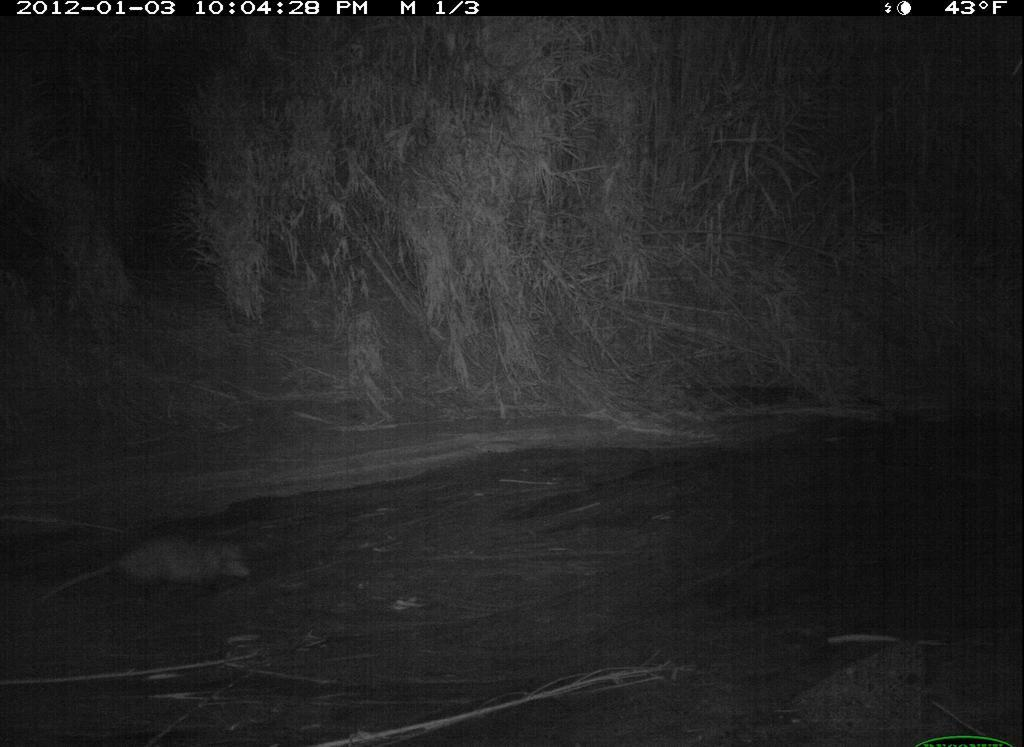opossum: (21, 521, 267, 609)
